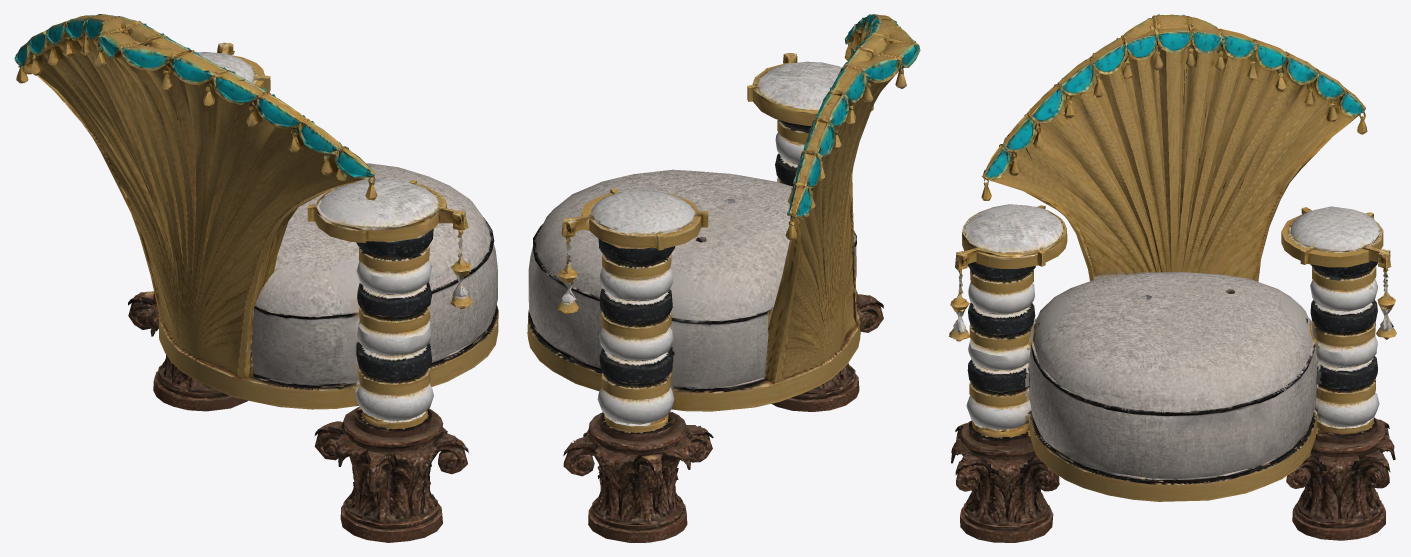
File: TH-02_armchair_game.glb
3 views of the same model, side by side, from view 1: azimuth 30°, elevation 25°; view 2: azimuth 150°, elevation 25°; view 3: azimuth 270°, elevation 25° (orthographic). The views are drawn at different scales.
Parts seen in each view (by area): view 1: TH-02_armchair; view 2: TH-02_armchair; view 3: TH-02_armchair.
Part boxes in pixels (x1,y1,x2,y2): TH-02_armchair: [14, 14, 498, 542]; TH-02_armchair: [527, 14, 920, 542]; TH-02_armchair: [949, 14, 1396, 542].
Bounding box in the file's own units: 0.8325 × 0.9793 × 0.9363.
Materials: 1 (1 with a texture image).
